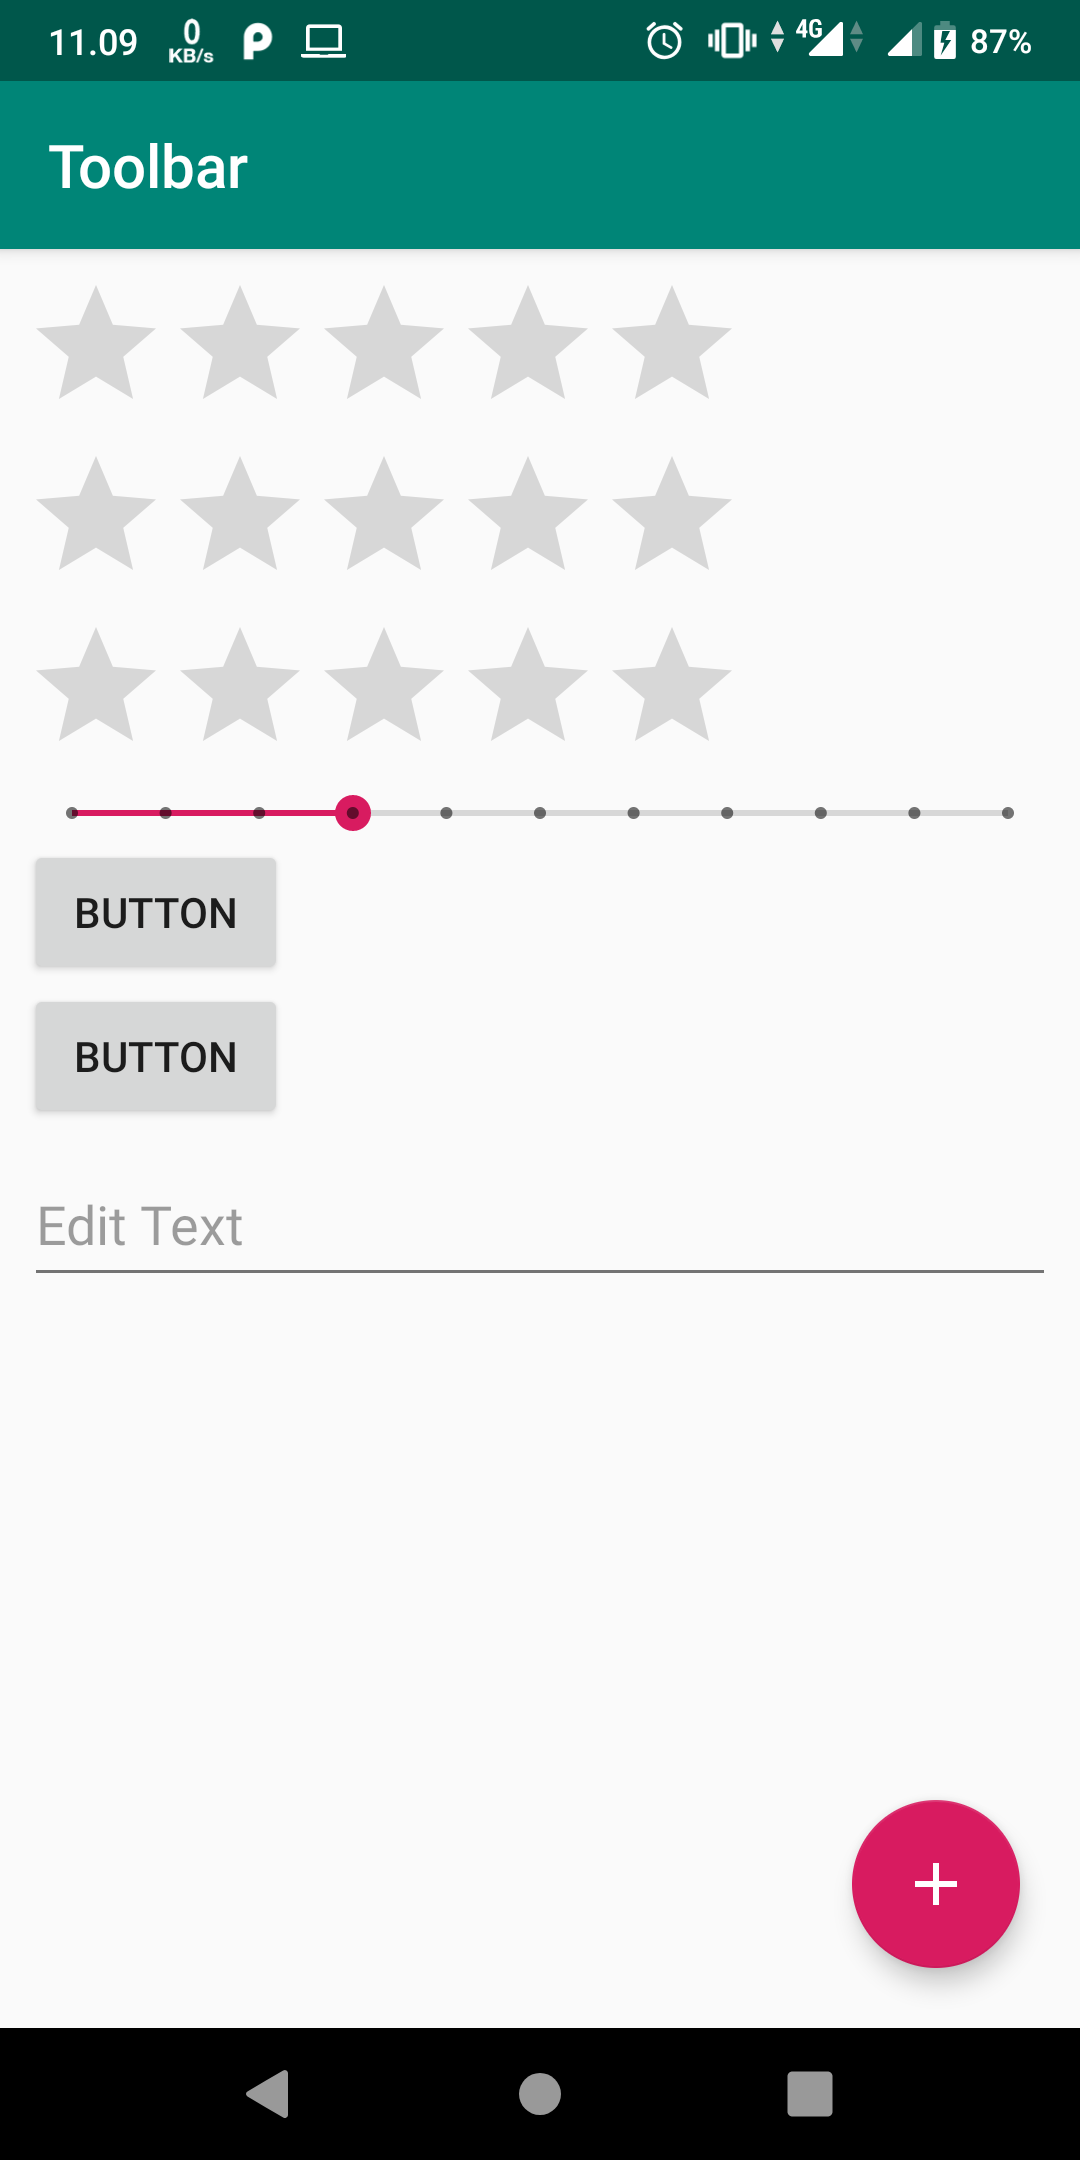button: (25, 849, 291, 977), (28, 993, 291, 1121)
editText: (15, 1190, 1057, 1296)
floatingButton: (844, 1787, 1032, 1973)
ratingBar: (41, 448, 741, 590), (39, 280, 738, 412), (44, 631, 738, 748)
slider: (54, 780, 1041, 838)
toolbar: (3, 77, 1079, 248)
